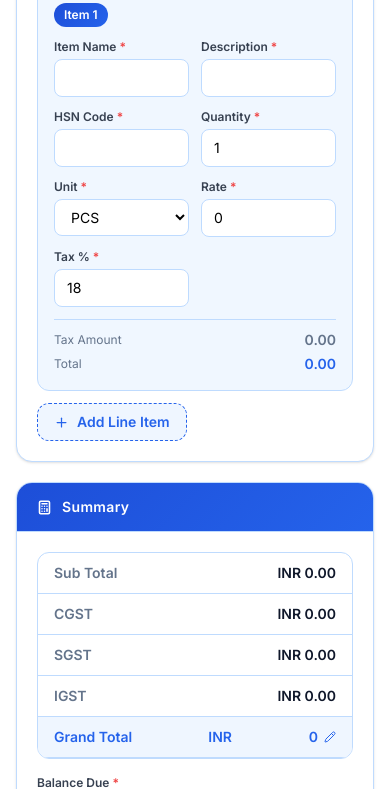
Test case: DebitNotePage › adds a new line item when "Add Line Item" is clicked
(page scrolled)
Check: the text "Item 1" is shown once, box left=54, top=3, right=108, bottom=27
Click the button "Add Line Item". click: (112, 422)
box: left=37, top=403, right=187, bottom=441
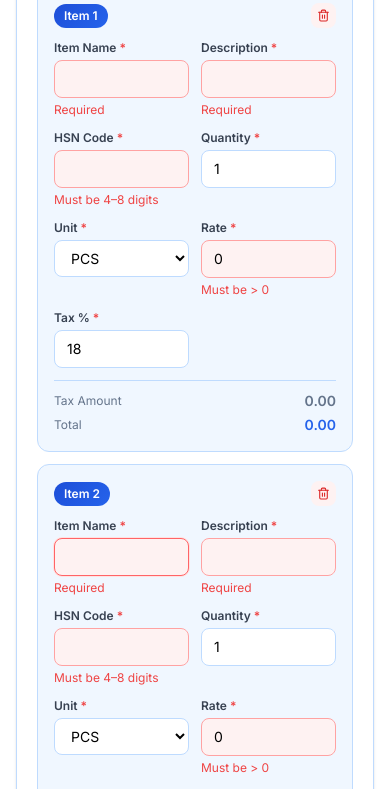
Check: the text "Item 1" is shown 2 times, box left=54, top=4, right=108, bottom=28; left=54, top=482, right=110, bottom=506
Check: the text "Item 2" is shown, box left=54, top=482, right=110, bottom=506
